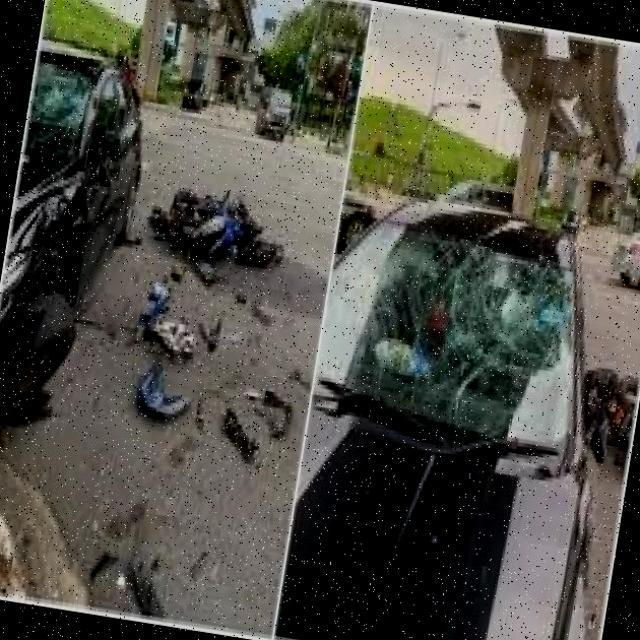accident: (341, 166, 640, 486), (0, 15, 165, 441), (135, 154, 291, 323)
